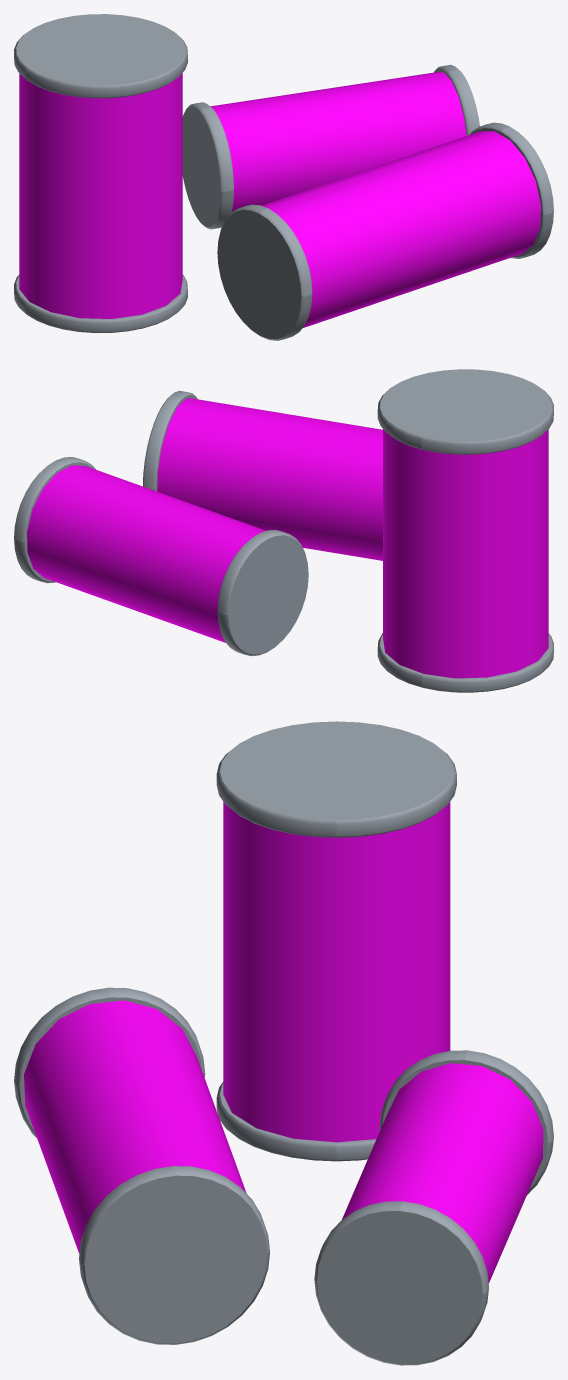
File: objet_isolant.glb
3 renders of one model, top to bottom at view 1: azimuth 30°, elevation 25°; view 2: azimuth 150°, elevation 25°; view 3: azimuth 270°, elevation 25°, orthographic. The views are drawn at different scales.
Parts seen in each view (by area): view 1: isolant_teinte.002, isolant_acier_doux.002; view 2: isolant_teinte.002, isolant_acier_doux.002; view 3: isolant_teinte.002, isolant_acier_doux.002.
Part boxes in pixels (box(x1,y1,x2,y2)): isolant_teinte.002: box(19, 72, 540, 327); isolant_acier_doux.002: box(14, 14, 553, 340); isolant_teinte.002: box(27, 398, 548, 678); isolant_acier_doux.002: box(14, 369, 553, 692); isolant_teinte.002: box(24, 802, 543, 1283); isolant_acier_doux.002: box(14, 721, 553, 1365).
Bounding box in the file's own units: 0.2296 × 0.116 × 0.1664.
